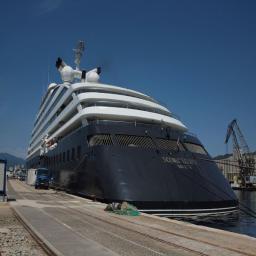cruises: (25, 39, 242, 219)
